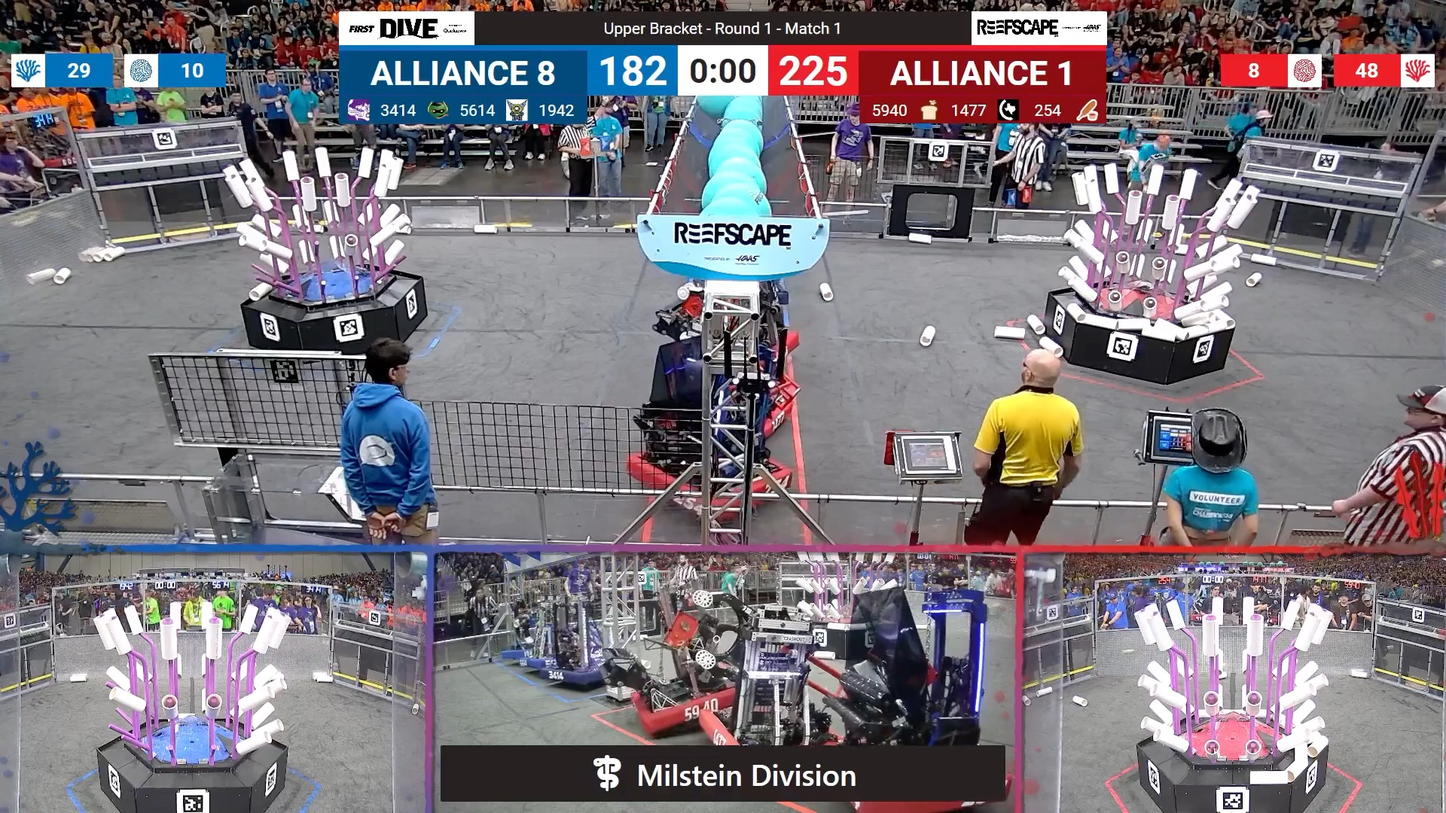bumpers: (626, 445, 794, 518), (627, 686, 732, 724), (522, 659, 625, 687), (509, 653, 563, 670)
